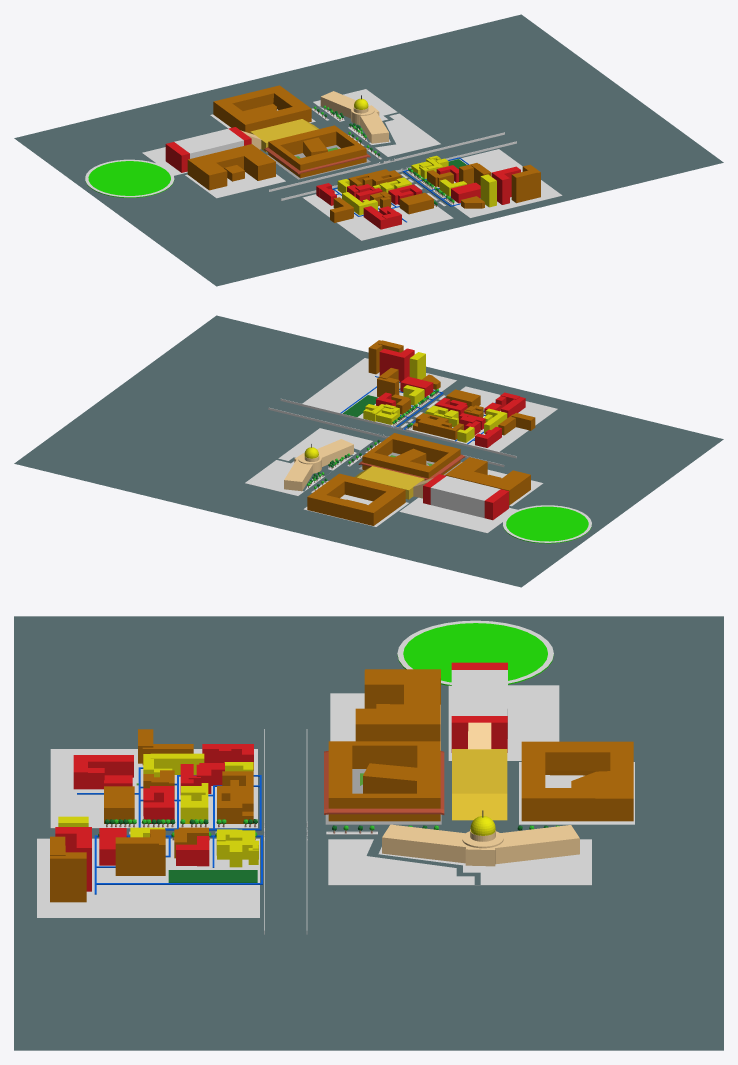
File: clg_with_waypoints.glb
3 renders of one model, top to bottom at view 1: azimuth 30°, elevation 25°; view 2: azimuth 150°, elevation 25°; view 3: azimuth 270°, elevation 25°, orthographic. The views are drawn at different scales.
Parts seen in each view (by area): view 1: Cube, building_ab2, building_ab1, building_ab3, Cylinder.002, Cube.039, Cube.008, Cube.042, building_ab4, Cube.062, building_mess_old, Cube.047 (+11 smaller); view 2: Cube, building_ab2, Cube.042, building_ab1, Cylinder.002, Cube.039, building_ab4, building_ab3, Cube.005, Cube.008, building_mess_old, Cube.061 (+10 smaller); view 3: Cube, Cube.042, building_ab2, Cube.039, building_ab1, Cylinder.002, building_ab3, Cube.008, building_mess_old, Cube.005, building_ab4, Cube.025 (+24 smaller).
Part boxes in pixels (bbox=[...]): Cube: bbox=[14, 14, 723, 286]; building_ab2: bbox=[213, 85, 311, 133]; building_ab1: bbox=[268, 125, 366, 178]; building_ab3: bbox=[187, 144, 275, 190]; Cylinder.002: bbox=[85, 161, 174, 197]; Cube.039: bbox=[313, 89, 440, 156]; Cube.008: bbox=[302, 189, 453, 240]; Cube.042: bbox=[407, 149, 562, 217]; building_ab4: bbox=[174, 129, 243, 158]; Cube.062: bbox=[511, 164, 540, 203]; building_mess_old: bbox=[250, 119, 318, 152]; Cube.047: bbox=[185, 172, 285, 198]; Cube: bbox=[14, 315, 723, 587]; building_ab2: bbox=[307, 473, 405, 525]; Cube.042: bbox=[302, 358, 456, 426]; building_ab1: bbox=[362, 433, 460, 478]; Cylinder.002: bbox=[502, 506, 591, 543]; Cube.039: bbox=[245, 428, 372, 495]; building_ab4: bbox=[430, 476, 500, 517]; building_ab3: bbox=[445, 457, 530, 505]; Cube.005: bbox=[399, 497, 517, 533]; Cube.008: bbox=[407, 386, 557, 451]; building_mess_old: bbox=[354, 466, 424, 499]; Cube.061: bbox=[379, 348, 414, 381]; Cube: bbox=[14, 616, 723, 1050]; Cube.042: bbox=[37, 838, 259, 917]; building_ab2: bbox=[521, 741, 633, 821]; Cube.039: bbox=[328, 839, 591, 885]; building_ab1: bbox=[328, 741, 440, 821]; Cylinder.002: bbox=[397, 623, 553, 685]; building_ab3: bbox=[355, 669, 440, 741]; Cube.008: bbox=[50, 749, 257, 828]; building_mess_old: bbox=[452, 749, 507, 820]; Cube.005: bbox=[448, 685, 559, 760]; building_ab4: bbox=[451, 670, 507, 738]; Cube.025: bbox=[495, 825, 579, 864].
Bounding box in the file's own units: 743 × 42.3 × 514.
